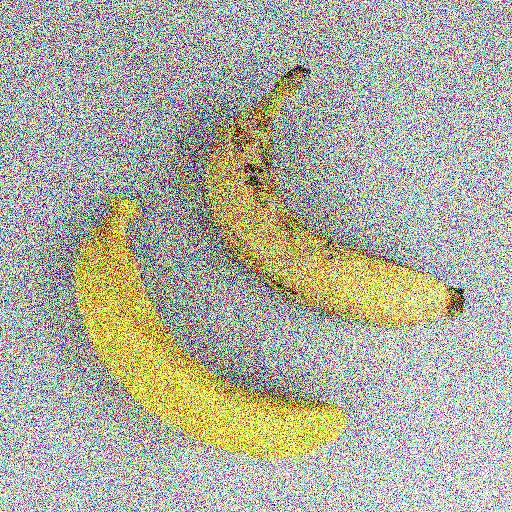fruit: (100, 91, 316, 318), (36, 158, 148, 512)
